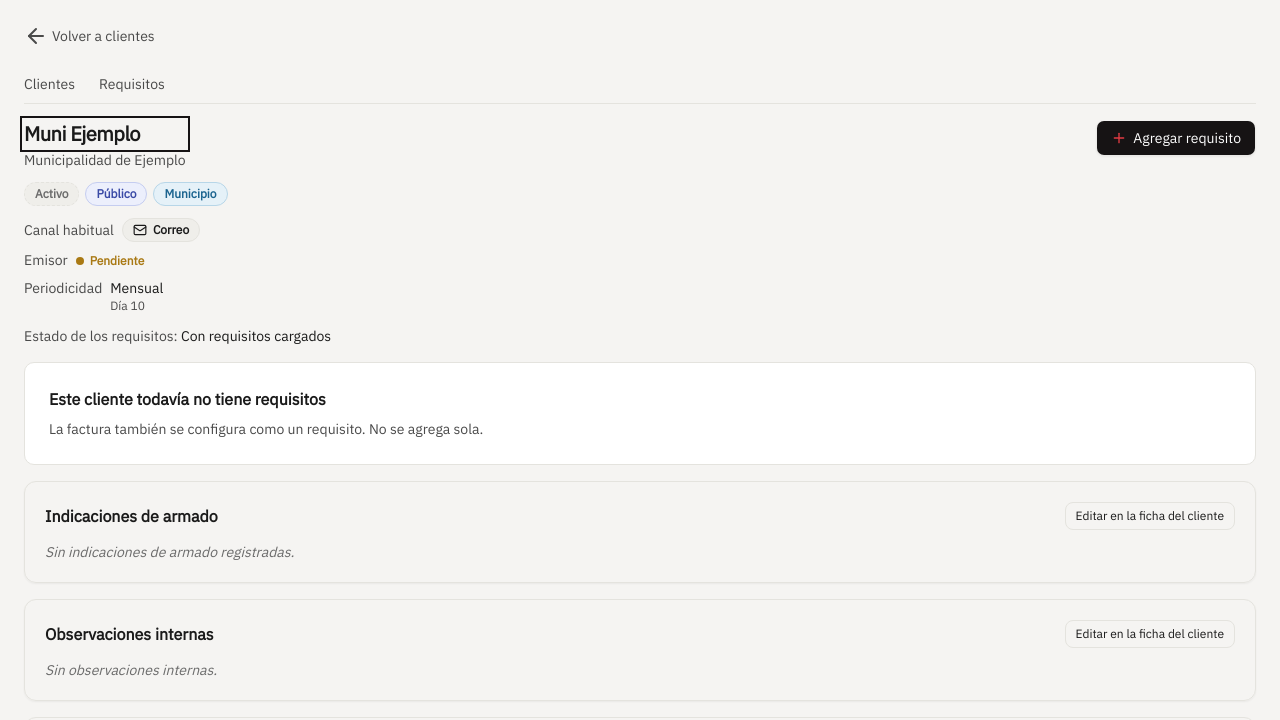
Test: MatrizPage: navegación › una entrada directa, o un state que no es una búsqueda, vuelve a /clientes
What coordinates should you click on to do the following:
click the link "Volver a clientes"
I would click on:
 (89, 36)
Its box is [24,24,155,48].
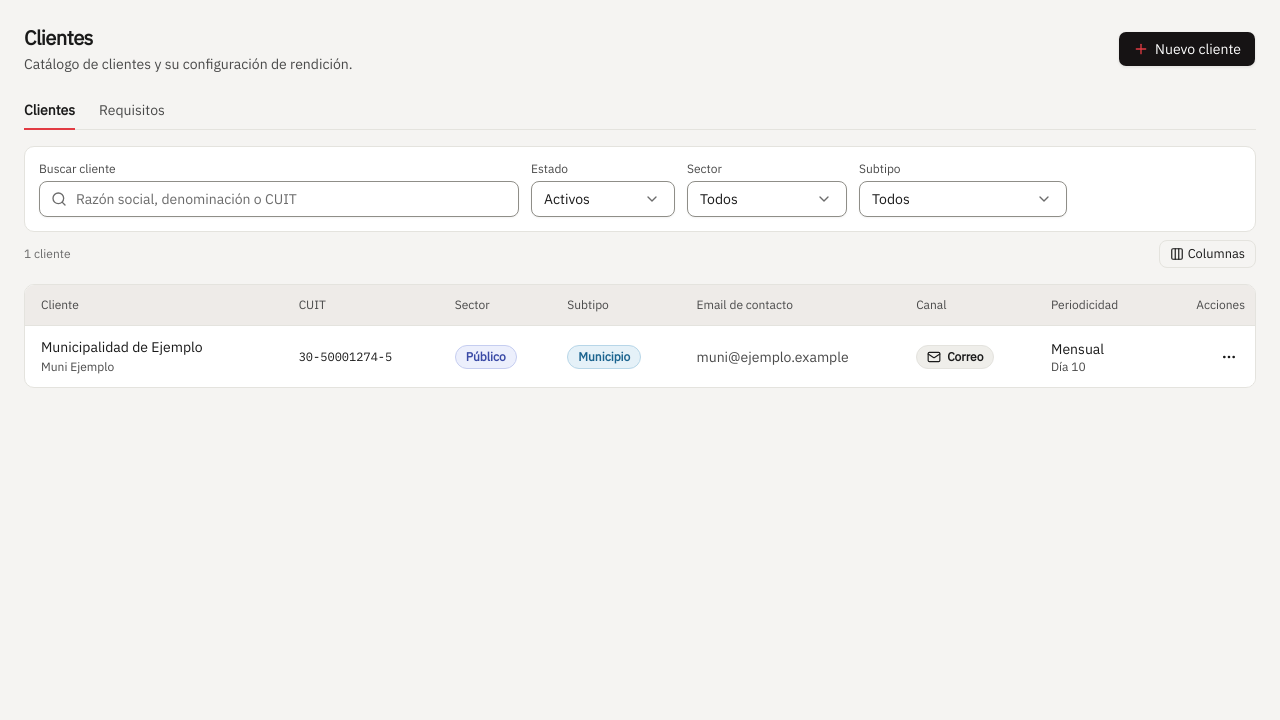
expect the heading "Clientes" is shown: met, box [24,24,93,51]
